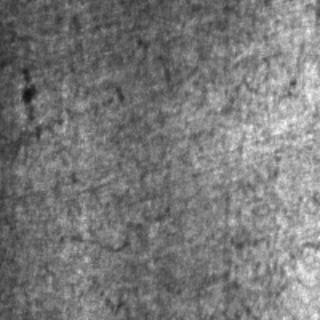crazing: (40, 229, 132, 315)
